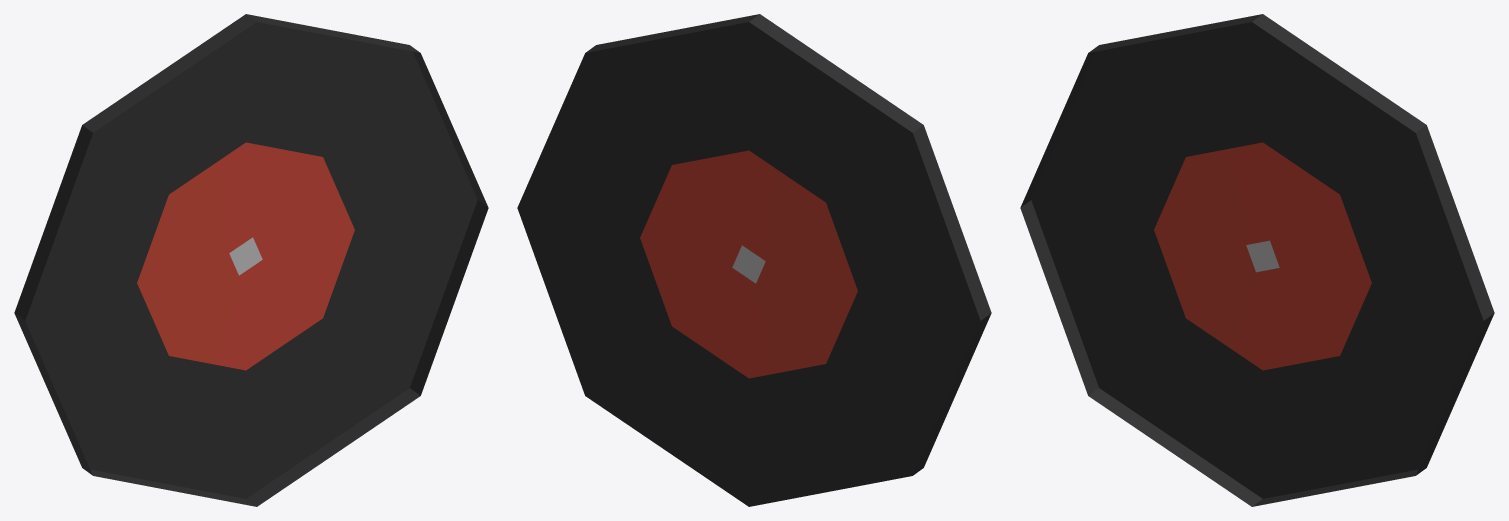
File: disc05.fbx
3 views of the same model, side by side, from view 1: azimuth 30°, elevation 25°; view 2: azimuth 150°, elevation 25°; view 3: azimuth 330°, elevation 25° (orthographic).
Visible parts, largest first — view 1: disc05; view 2: disc05; view 3: disc05.
Part boxes in pixels (box(x1,y1,x2,y2)): disc05: box(14, 14, 488, 506); disc05: box(517, 14, 991, 506); disc05: box(1020, 14, 1494, 506).
Size of the model in its own units: 172 by 172 by 7.03.
